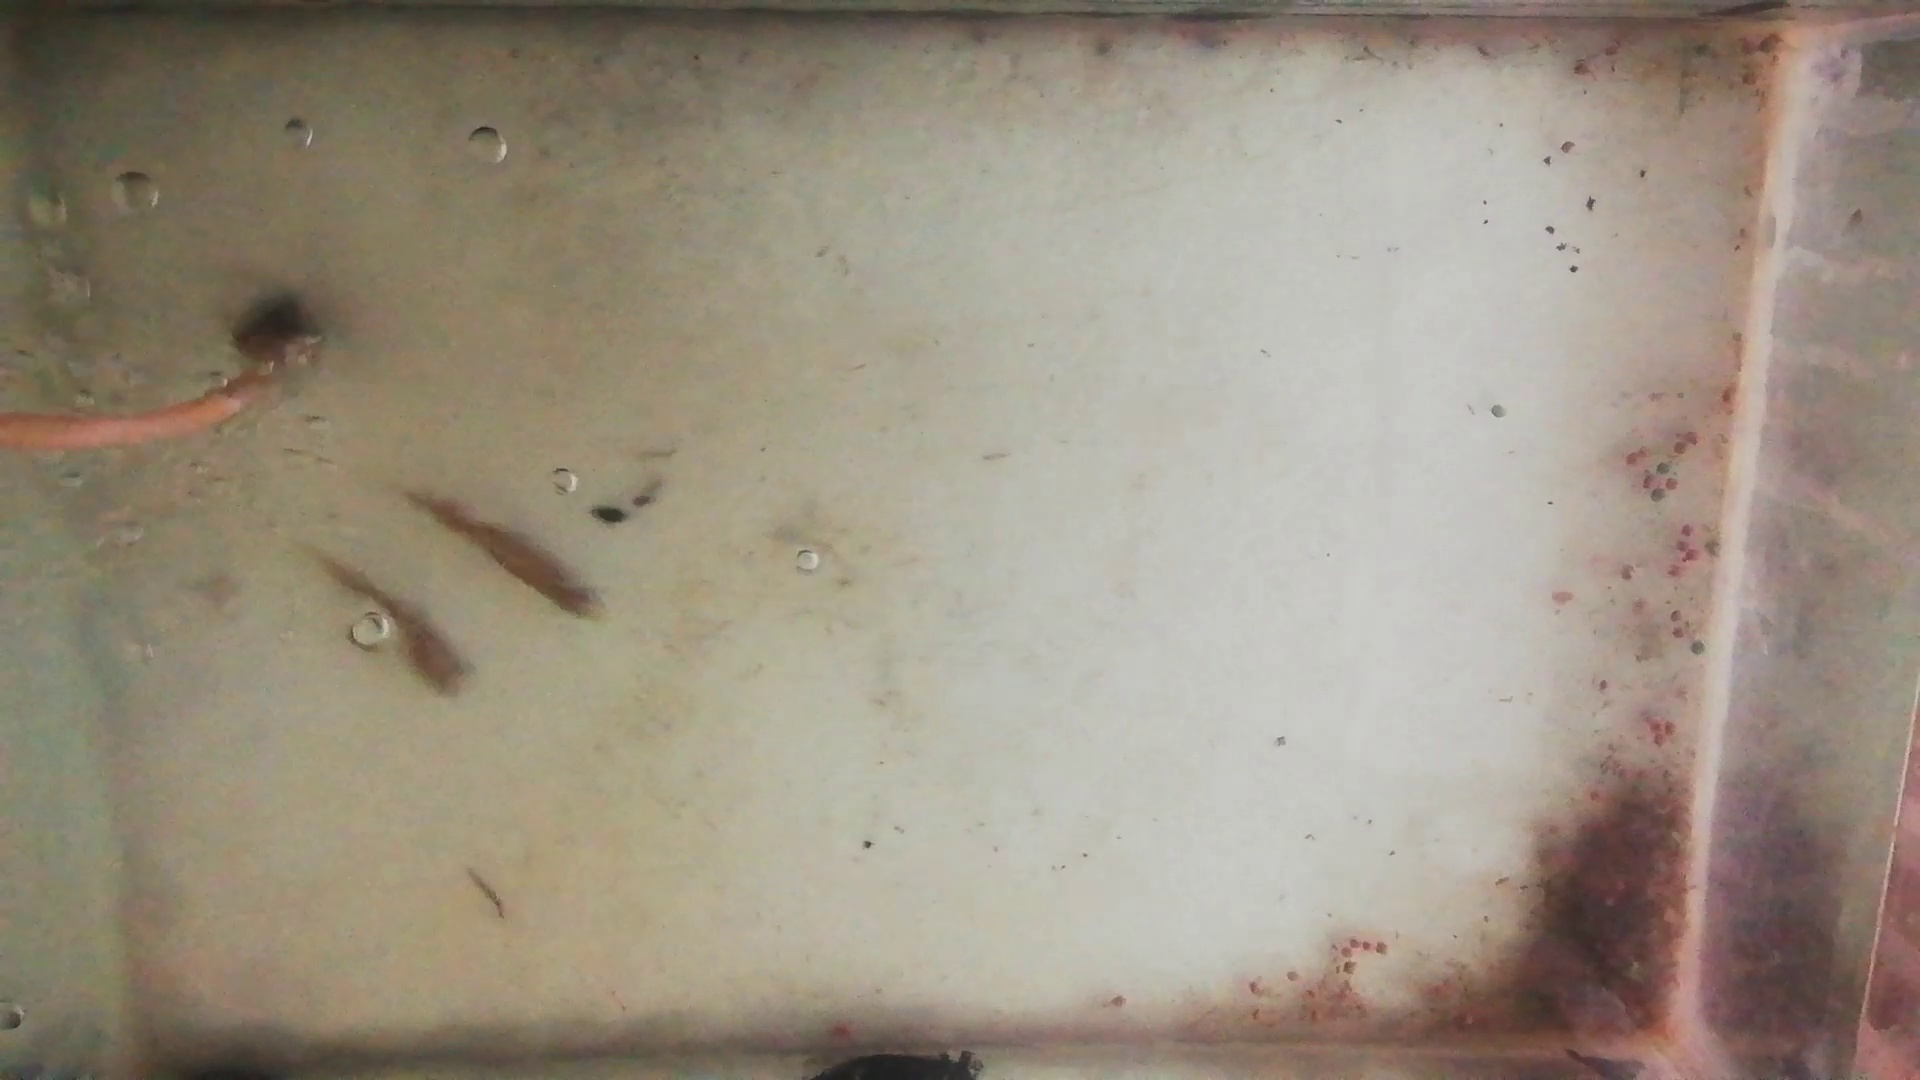fish: (405, 495, 605, 622), (313, 553, 469, 698)
